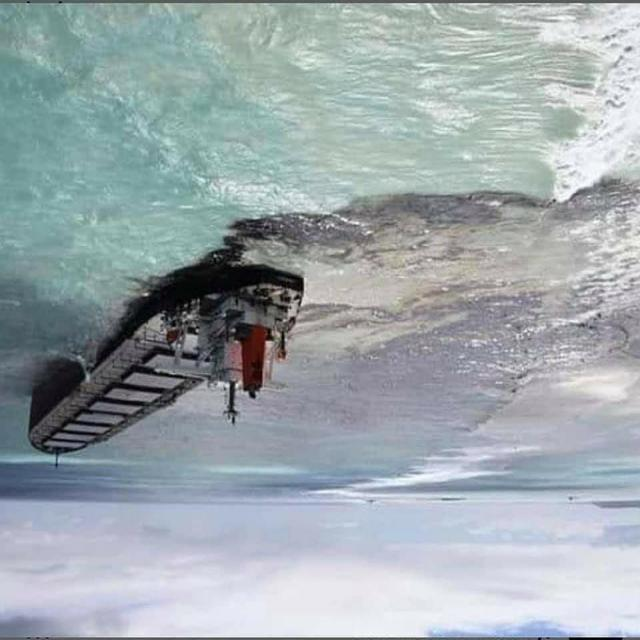sheen: (232, 183, 640, 352)
